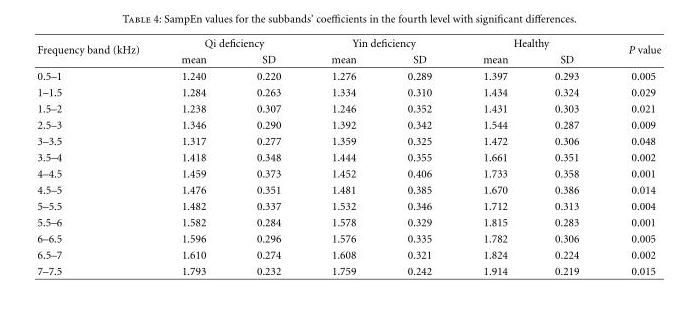table: (36, 36, 660, 276)
table column: (36, 36, 159, 276), (305, 36, 381, 276), (230, 36, 305, 276), (381, 36, 456, 276), (456, 36, 530, 276), (530, 36, 603, 276), (159, 36, 230, 276), (603, 36, 660, 276)
table column header: (36, 36, 660, 67)
table row: (36, 50, 660, 67), (36, 83, 660, 100), (36, 148, 660, 165), (36, 213, 660, 230), (36, 67, 660, 83), (36, 100, 660, 116), (36, 116, 660, 132), (36, 132, 660, 148), (36, 165, 660, 181), (36, 181, 660, 197), (36, 197, 660, 213), (36, 230, 660, 246), (36, 246, 660, 262), (36, 36, 660, 50), (36, 262, 660, 276)
table spanning cell: (36, 36, 159, 67), (305, 36, 456, 50), (456, 36, 603, 50), (159, 36, 305, 50), (603, 36, 660, 67)
